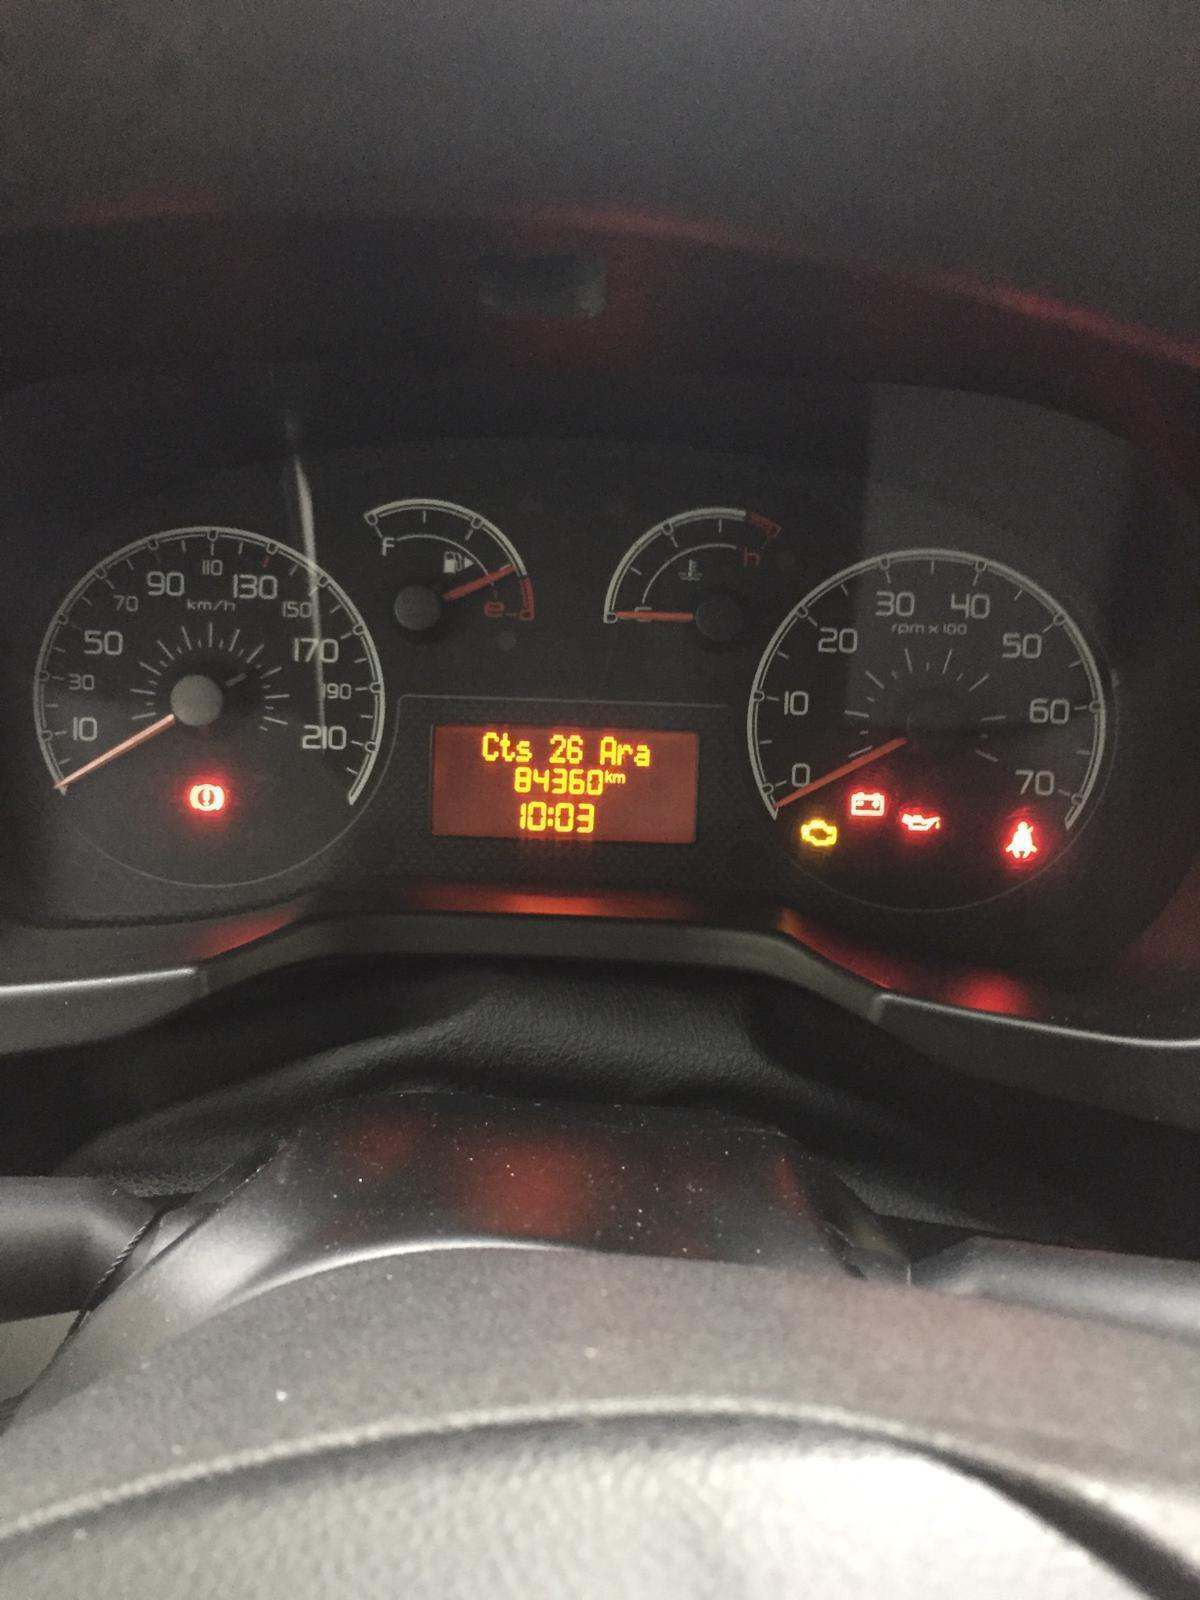0: (527, 800, 546, 831), (555, 801, 574, 831), (587, 767, 603, 794)
1: (519, 801, 526, 829)
2: (550, 732, 566, 763)
3: (576, 801, 596, 833), (550, 767, 568, 794)
4: (532, 767, 550, 792)
6: (566, 733, 584, 763), (568, 767, 585, 796)
8: (513, 765, 531, 792)
X: (482, 729, 499, 763), (499, 729, 516, 763), (600, 734, 616, 765), (516, 737, 532, 762), (635, 742, 650, 767), (616, 742, 632, 766), (546, 804, 555, 828), (613, 772, 626, 784), (604, 769, 613, 784)
odometer: (425, 723, 700, 844)
